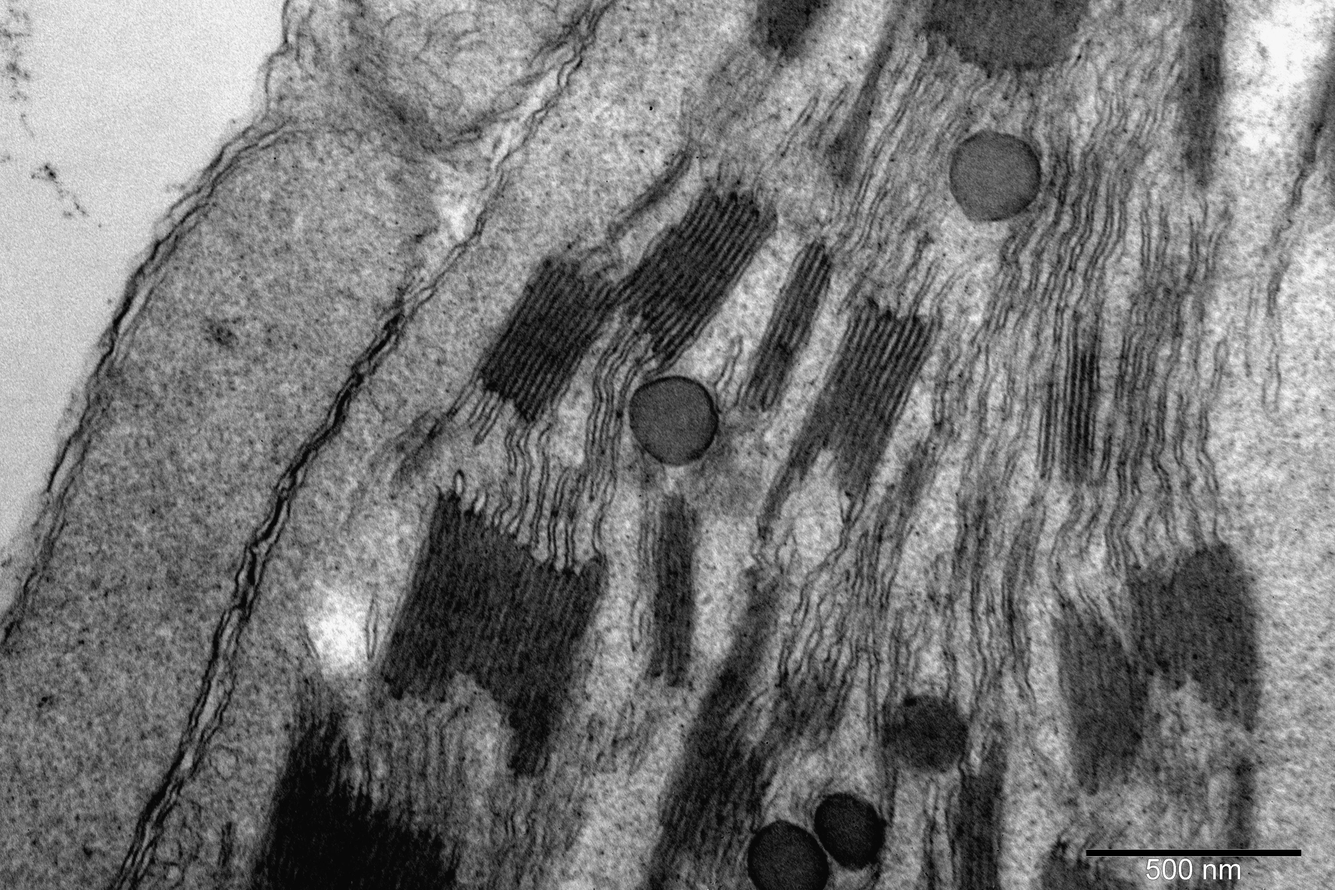granum: (374, 492, 615, 787), (1041, 536, 1269, 786), (636, 585, 791, 885), (244, 713, 470, 890), (777, 295, 945, 502), (615, 171, 786, 367), (464, 250, 618, 427), (730, 230, 841, 427), (916, 0, 1090, 77), (638, 489, 702, 690), (1172, 0, 1230, 186), (947, 734, 1012, 890), (819, 80, 885, 191), (1055, 353, 1102, 485), (749, 0, 833, 59), (1030, 844, 1137, 890), (890, 438, 945, 507)
